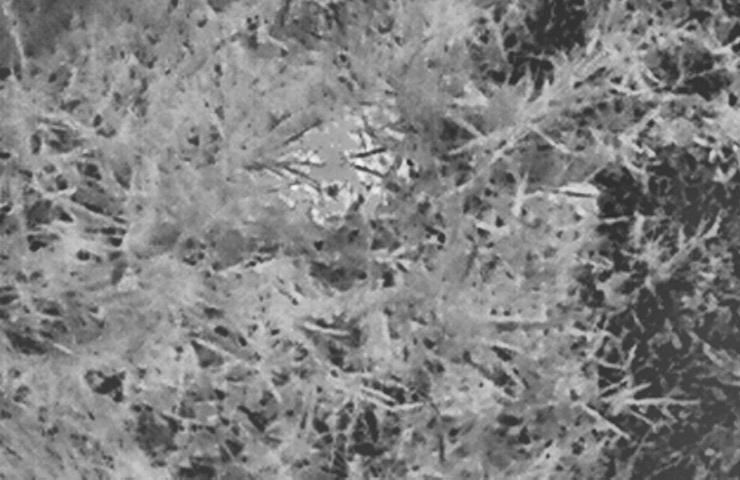landmines: (265, 95, 422, 239)
